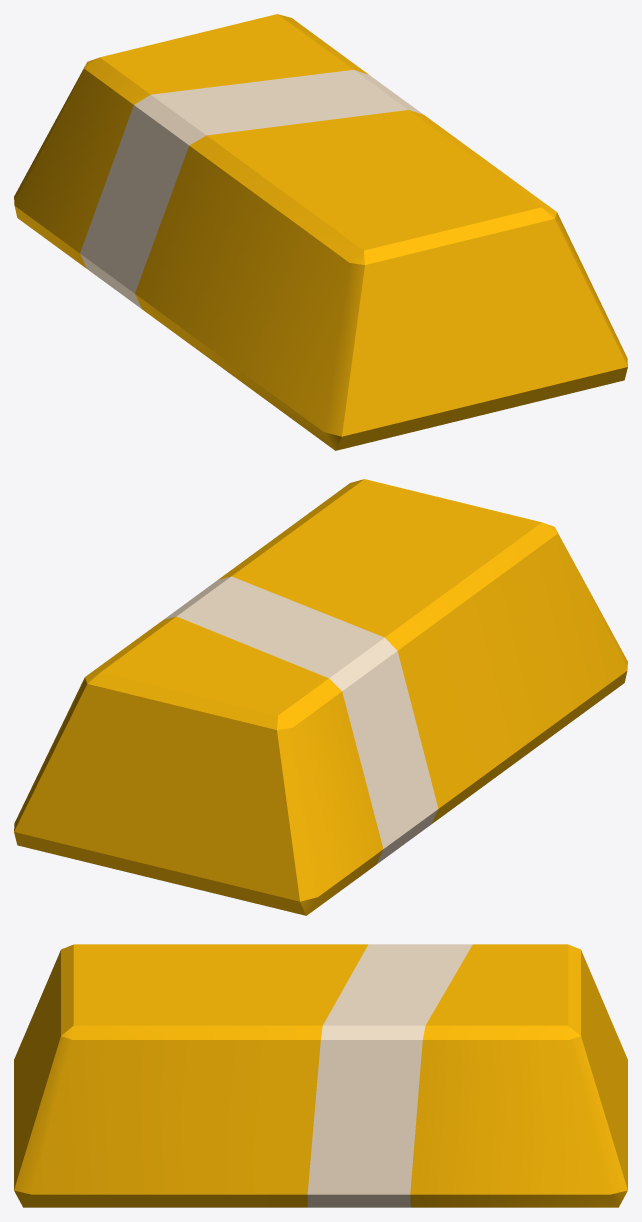
The model's file is Gold.fbx.
3 views of the same model, one above another, from view 1: azimuth 30°, elevation 25°; view 2: azimuth 150°, elevation 25°; view 3: azimuth 270°, elevation 25° (orthographic). The views are drawn at different scales.
Visible parts, largest first — view 1: Gold; view 2: Gold; view 3: Gold.
Part boxes in pixels (<box>): Gold: <box>14,14,627,450</box>; Gold: <box>14,479,627,915</box>; Gold: <box>14,944,627,1207</box>.
Bounding box in the file's own units: 26.22 × 13.78 × 49.07.
